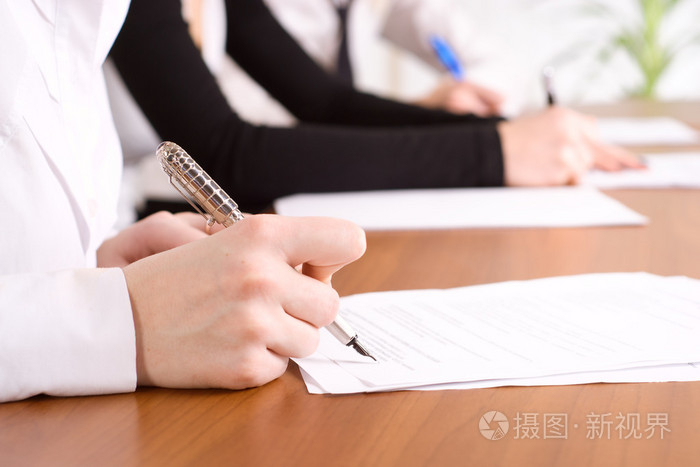no-phone: (137, 136, 378, 391)
